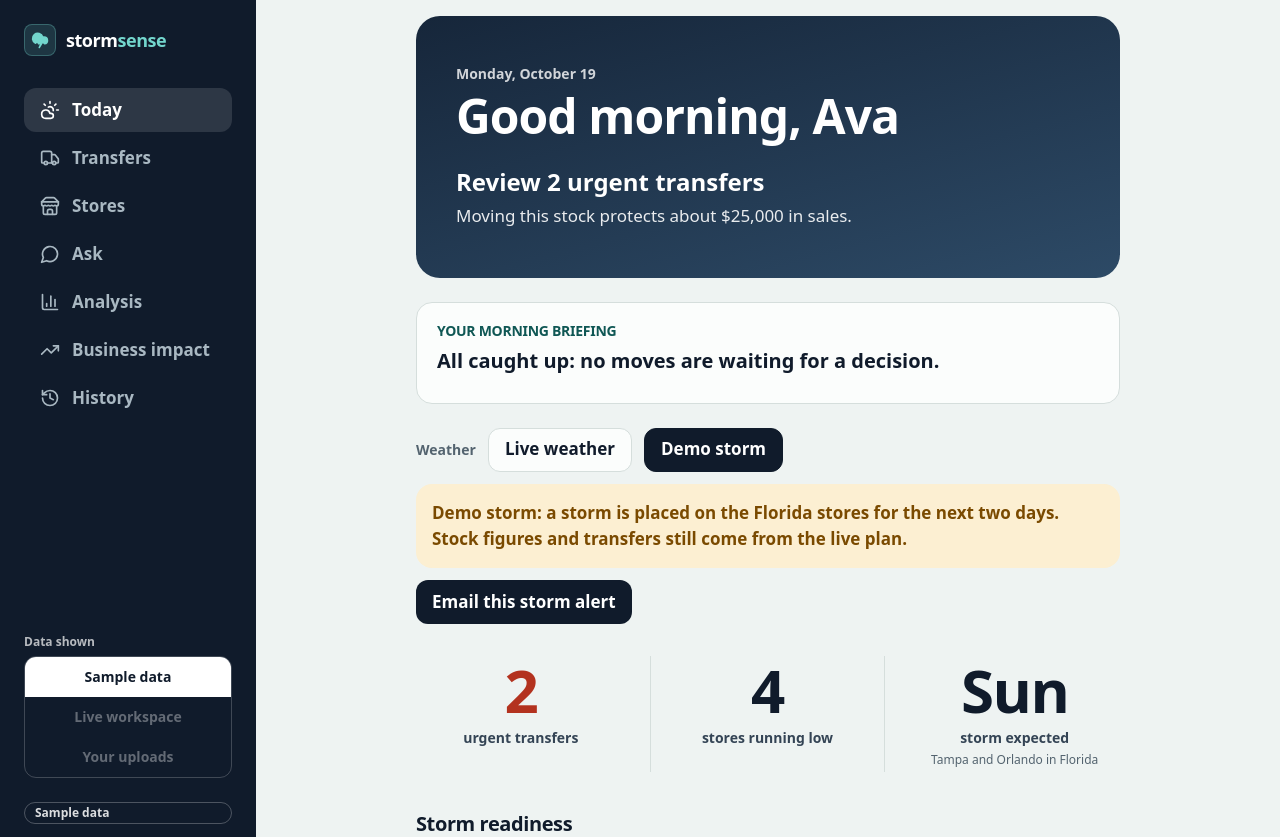
Scenario: Weather switch on Today › shows the demo storm with a clear label, and switches back to live weather
Expected: the text "Demo storm: a storm is placed on the Florida stores" is shown, [432, 501, 1059, 550]
Click the button "Live weather" at point(560, 450), box [488, 428, 632, 472]
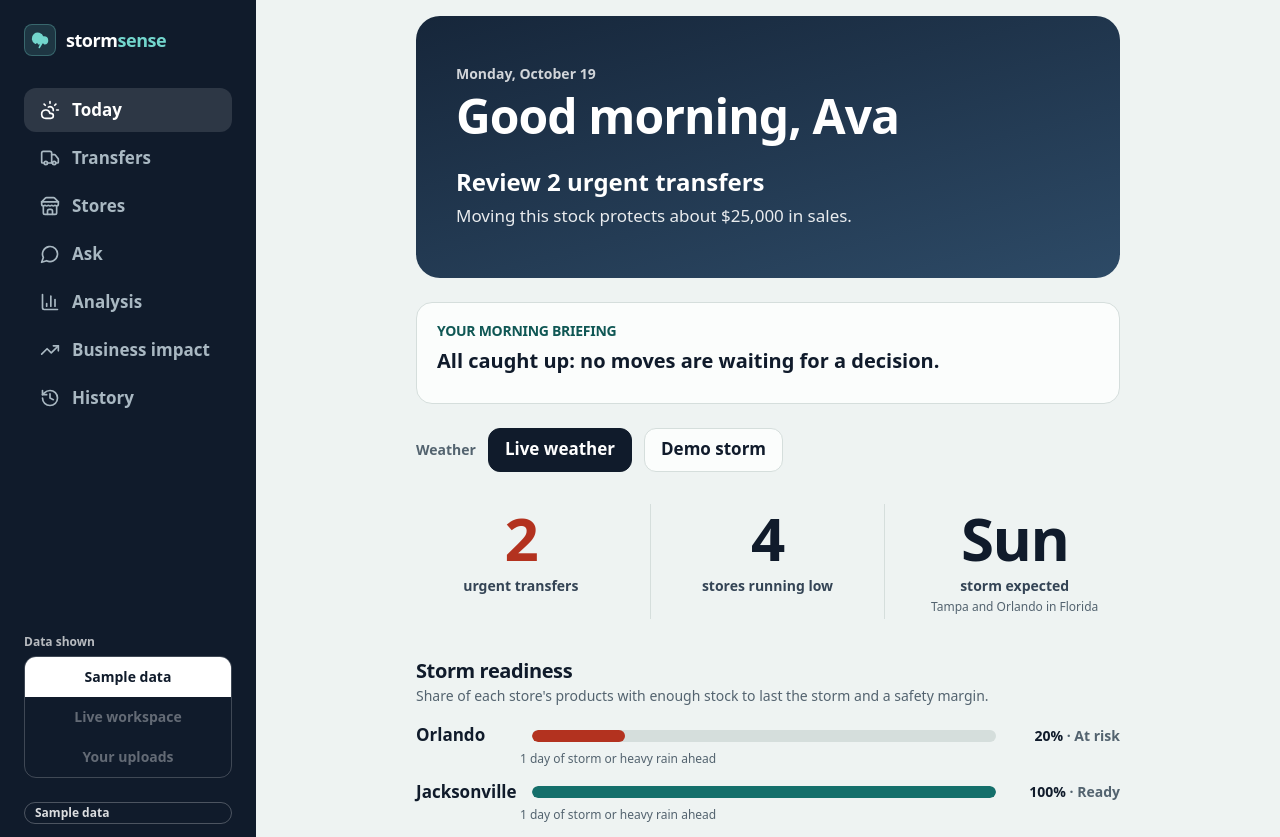
Expected: the text "Demo storm: a storm is placed" is gone
